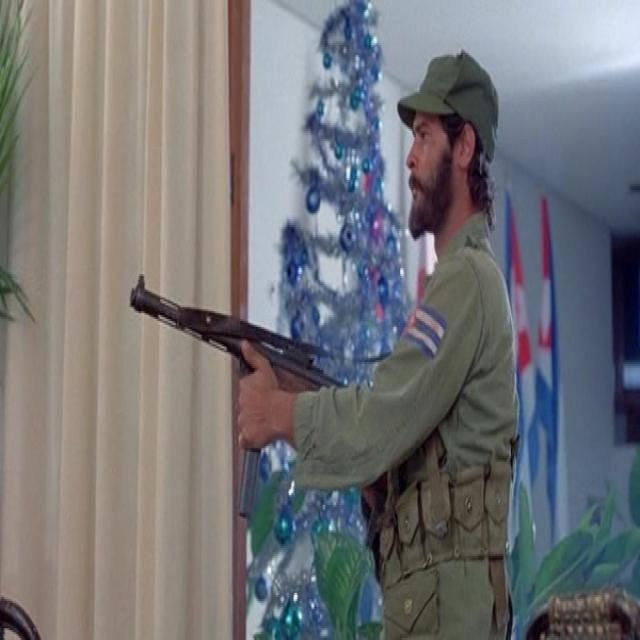rifle: (129, 267, 383, 524)
